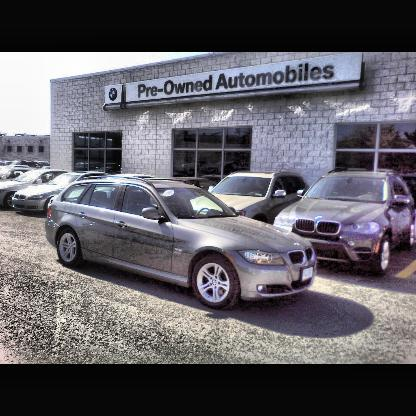BMW 3 Series Wagon 2012: (27, 168, 333, 335)
